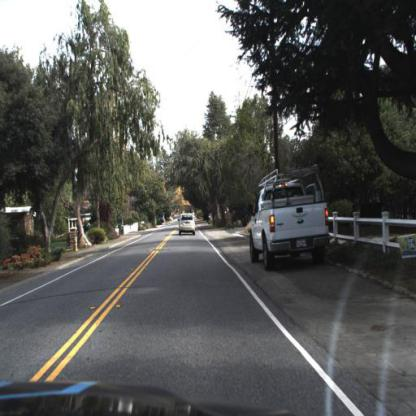car: (249, 160, 331, 273), (178, 210, 198, 239)
